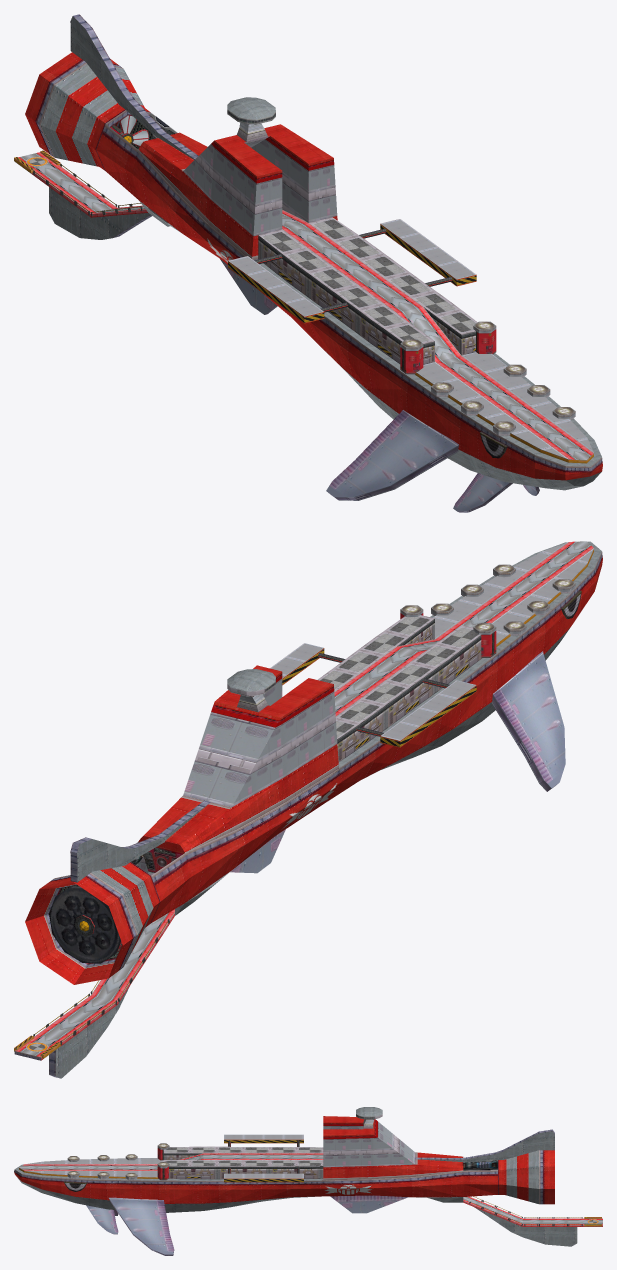
Rendered from Small Ship.obj.
The picture shows the model from 3 angles, top to bottom: view 1: azimuth 30°, elevation 25°; view 2: azimuth 150°, elevation 25°; view 3: azimuth 270°, elevation 25°; orthographic projection. The views are drawn at different scales.
Bounding box in the file's own units: 68.23 × 75.39 × 295.
27 materials, 27 textured.
